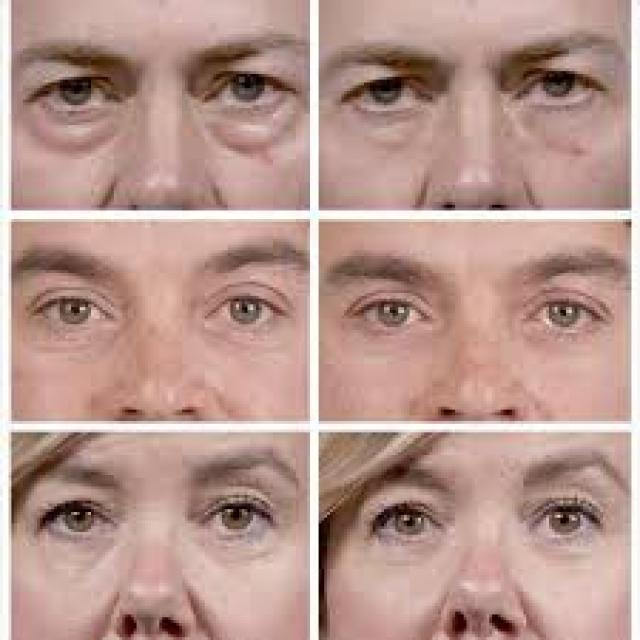Puffy Eyes - v3 Dark Circle: (35, 525, 121, 586), (211, 111, 301, 158), (26, 114, 126, 152)
